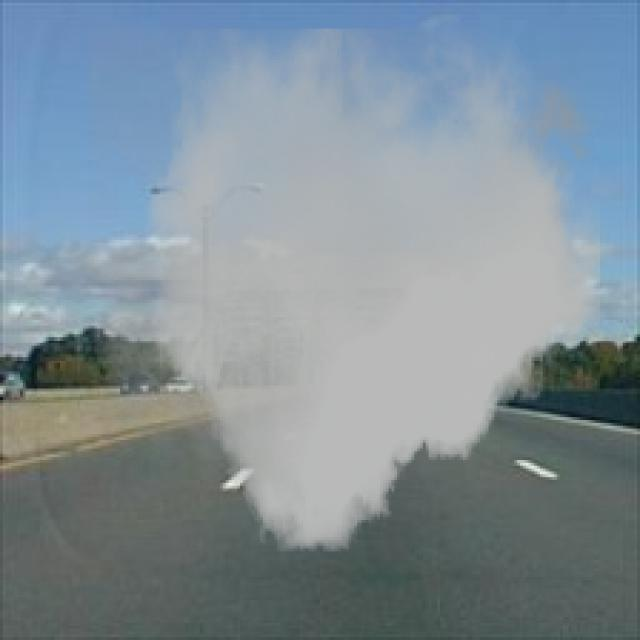smoke: (89, 29, 608, 552)
